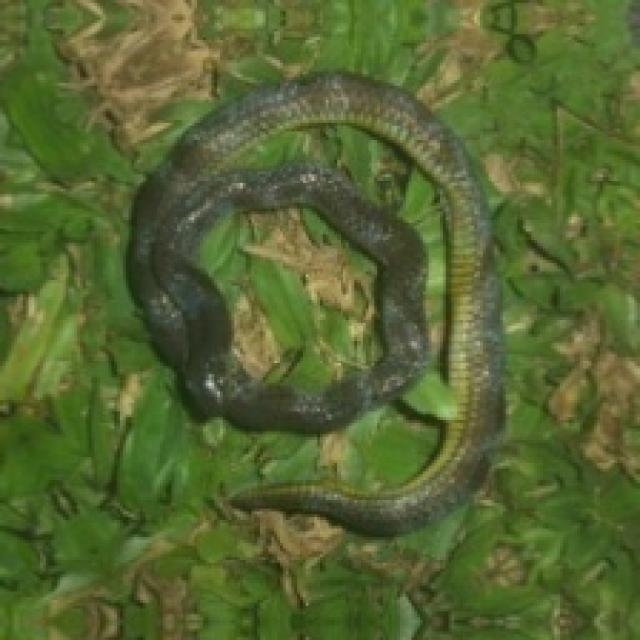gervais worm snake: (126, 74, 500, 531), (194, 203, 383, 391)
